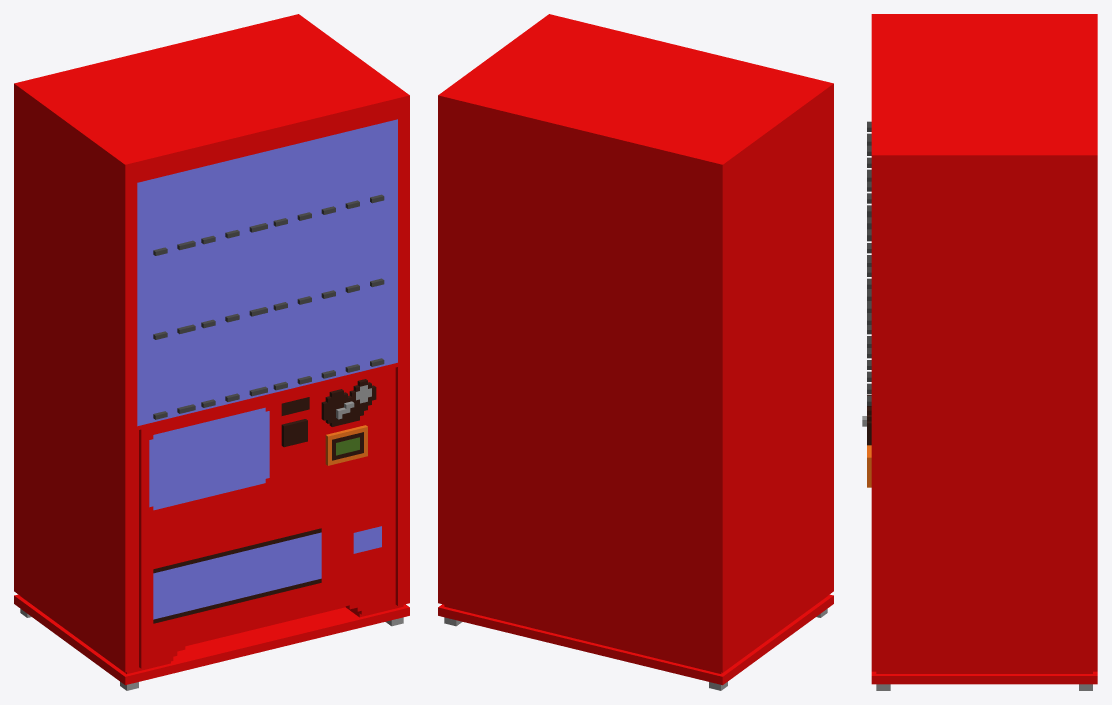
The model's file is Vending machine1-1.fbx.
3 renders of one model, left to right at view 1: azimuth 30°, elevation 25°; view 2: azimuth 150°, elevation 25°; view 3: azimuth 270°, elevation 25°, orthographic.
Visible parts, largest first — view 1: Vending machine1-1.001, Vending machine1-1.002, Vending machine1-1.003, Vending machine1-1.004, Vending machine1-1; view 2: Vending machine1-1.001; view 3: Vending machine1-1.001.
Boxes of the visible parts, box(x1,y1,x2,y2) form: Vending machine1-1.001: box(14, 14, 409, 690); Vending machine1-1.002: box(137, 119, 397, 426); Vending machine1-1.003: box(149, 407, 269, 510); Vending machine1-1.004: box(153, 532, 321, 619); Vending machine1-1: box(353, 526, 381, 553); Vending machine1-1.001: box(438, 14, 833, 690); Vending machine1-1.001: box(862, 14, 1097, 690).
Bounding box in the file's own units: 710 × 1260 × 500.
